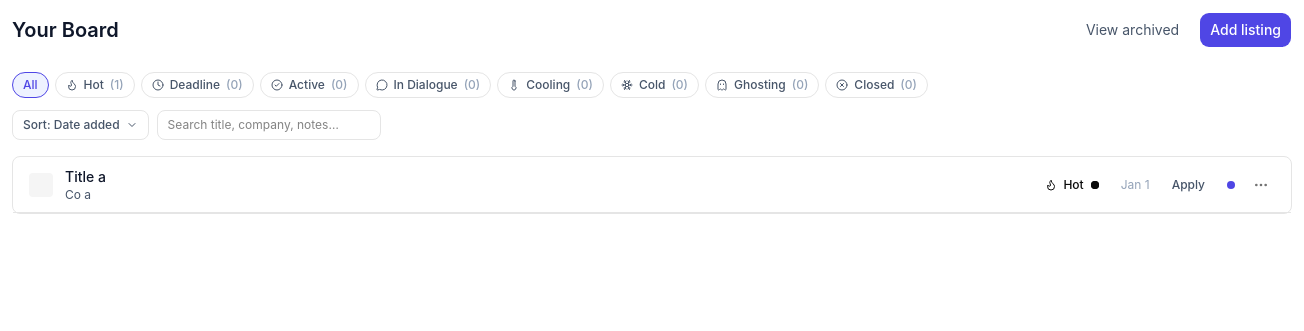
Test: BoardClient — filter pipeline integration › shows the filter-empty state when filters yield zero rows
Type "nonexistent" into the search field named "search listings" at (269, 125), box x1=157 y1=110 x2=381 y2=140
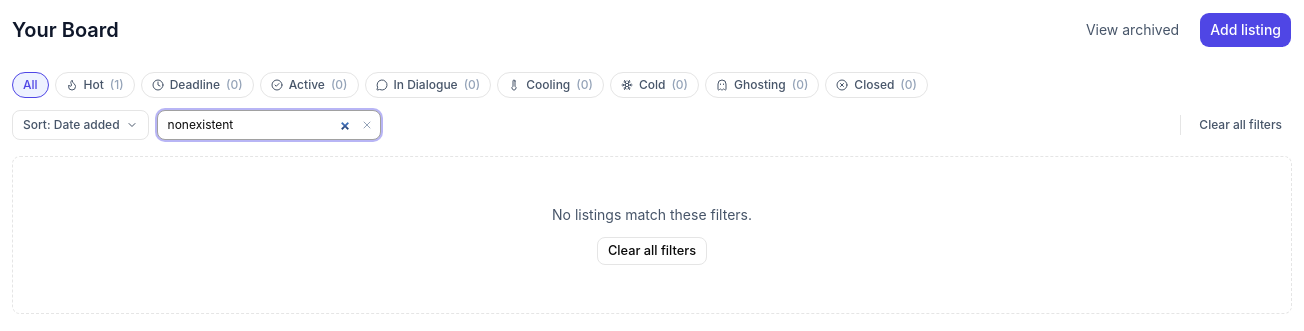
Expected: the text "No listings match these filters." is shown, x1=552 y1=205 x2=752 y2=225
